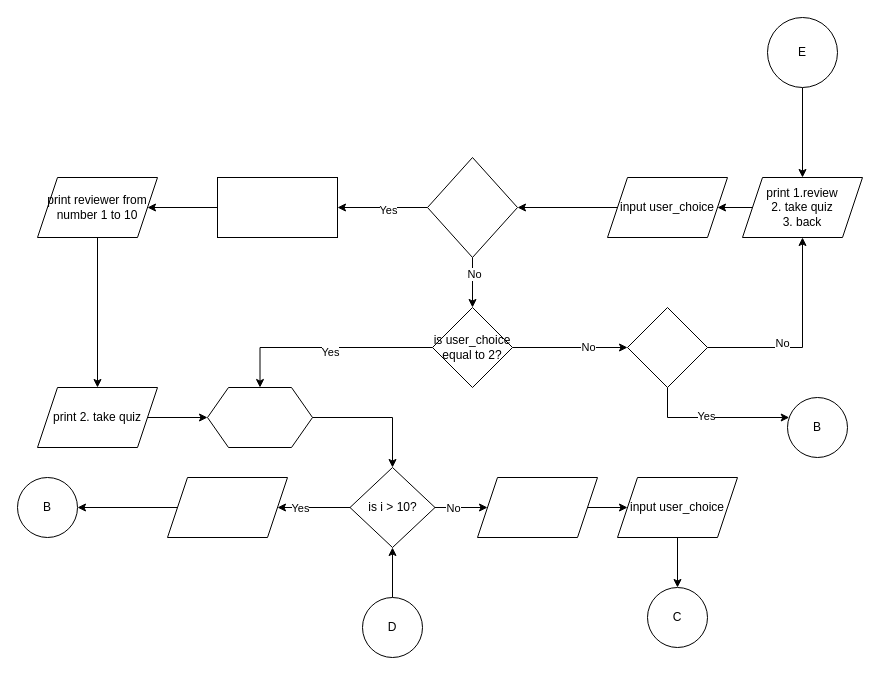
Some shapes in this 880 by 675 pixel diagram are drawn without their labels. Each missing label, with the centre of its shape:
"is user_choice equal to 1?" goes at [472,207].
"is user_choice equal to 3?" goes at [667,347].
"prepare i,score" goes at [259,417].
"Print question and question_choices" goes at [537,507].
"print score" goes at [227,507].
"read reviewer" goes at [277,207].
